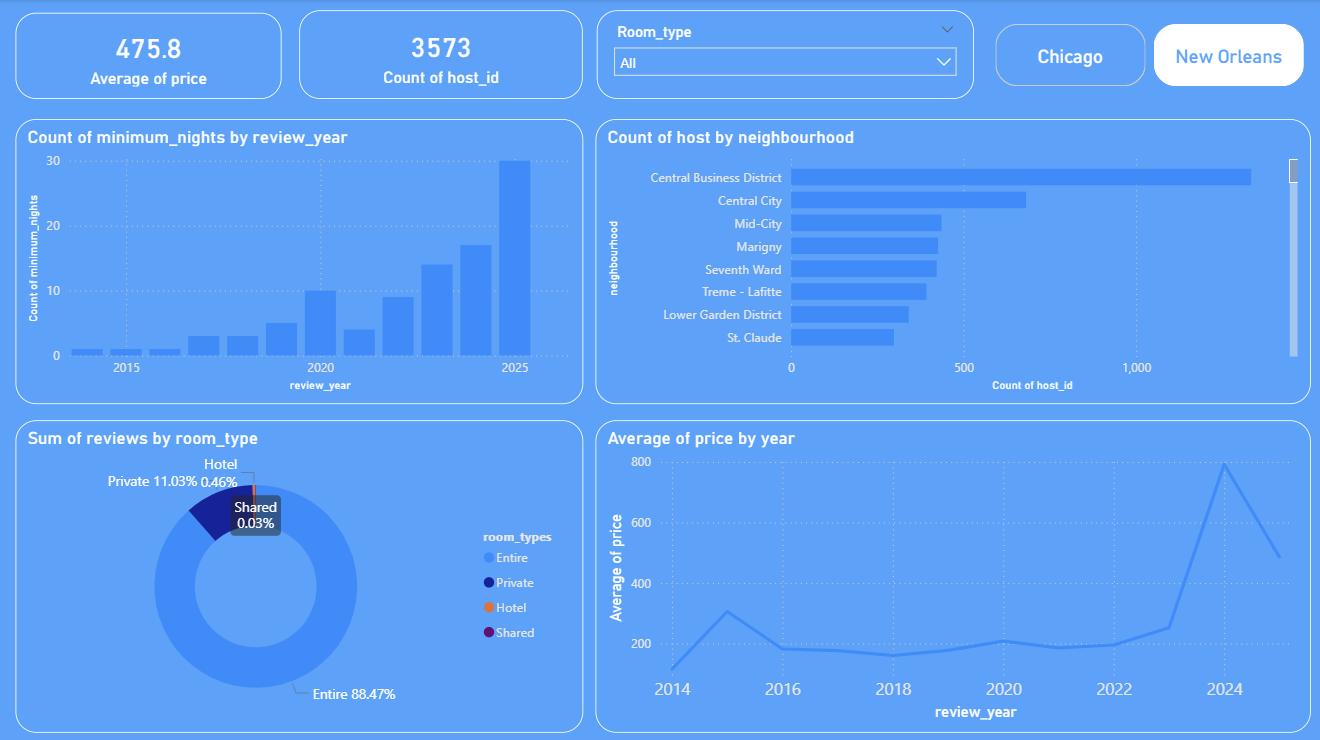

This screenshot's page, from the dashboard's own definition file:
{"tool":"powerbi","page":{"name":"Property","canvas":[1280,720],"ordinal":1},"visuals":[{"type":"slicer","fields":{"Values":["combined_airbnb_data.room_type_simple"]},"box":[577.9,10.9,364.3,85.7],"z":0},{"type":"card","title":"Avg. Monthly Review","fields":{"Values":["Count(combined_airbnb_data.host_id)"]},"box":[290.8,10.9,273.9,85.7],"z":1000},{"type":"card","title":"Avg. Monthly Review","fields":{"Values":["Avg(combined_airbnb_data.price)"]},"box":[16.9,13.3,257,83.2],"z":2000},{"type":"barChart","title":"Count of host by neighbourhood","fields":{"Category":["combined_airbnb_data.neighbourhood"],"Y":["CountNonNull(combined_airbnb_data.host_id)"]},"box":[576.7,115.8,690.1,275.1],"z":3000},{"type":"lineChart","title":"Average of price by year","fields":{"Y":["Avg(combined_airbnb_data.price)"],"Category":["combined_airbnb_data.review_year"]},"box":[576.7,406.6,690.1,301.6],"z":4000},{"type":"donutChart","title":"Sum of reviews by room_type","fields":{"Y":["Sum(combined_airbnb_data.number_of_reviews)"],"Category":["combined_airbnb_data.room_type_simple"]},"box":[16.9,406.6,547.7,301.6],"z":5000},{"type":"advancedSlicerVisual","fields":{"Values":["combined_airbnb_data.city"]},"box":[950.7,12.1,323.3,84.5],"z":6000},{"type":"columnChart","fields":{"Category":["combined_airbnb_data.review_year"],"Y":["Count(combined_airbnb_data.minimum_nights)"]},"box":[16.9,115.8,547.7,275.1],"z":7000}]}

Visuals, with their boxes in screenshot pixels (x1, y1, x2, y2), scaled from the page's 1280x720 canvas onto the 1320x740 screenshot:
slicer - combined_airbnb_data.room_type_simple: 596, 11, 972, 99
"Avg. Monthly Review" card: 300, 11, 582, 99
"Avg. Monthly Review" card: 17, 14, 282, 99
"Count of host by neighbourhood" barChart: 595, 119, 1306, 402
"Average of price by year" lineChart: 595, 418, 1306, 728
"Sum of reviews by room_type" donutChart: 17, 418, 582, 728
advancedSlicerVisual - combined_airbnb_data.city: 980, 12, 1314, 99
columnChart - combined_airbnb_data.review_year x Count(combined_airbnb_data.minimum_nights): 17, 119, 582, 402
